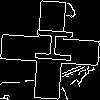H: (25, 25, 73, 65)
